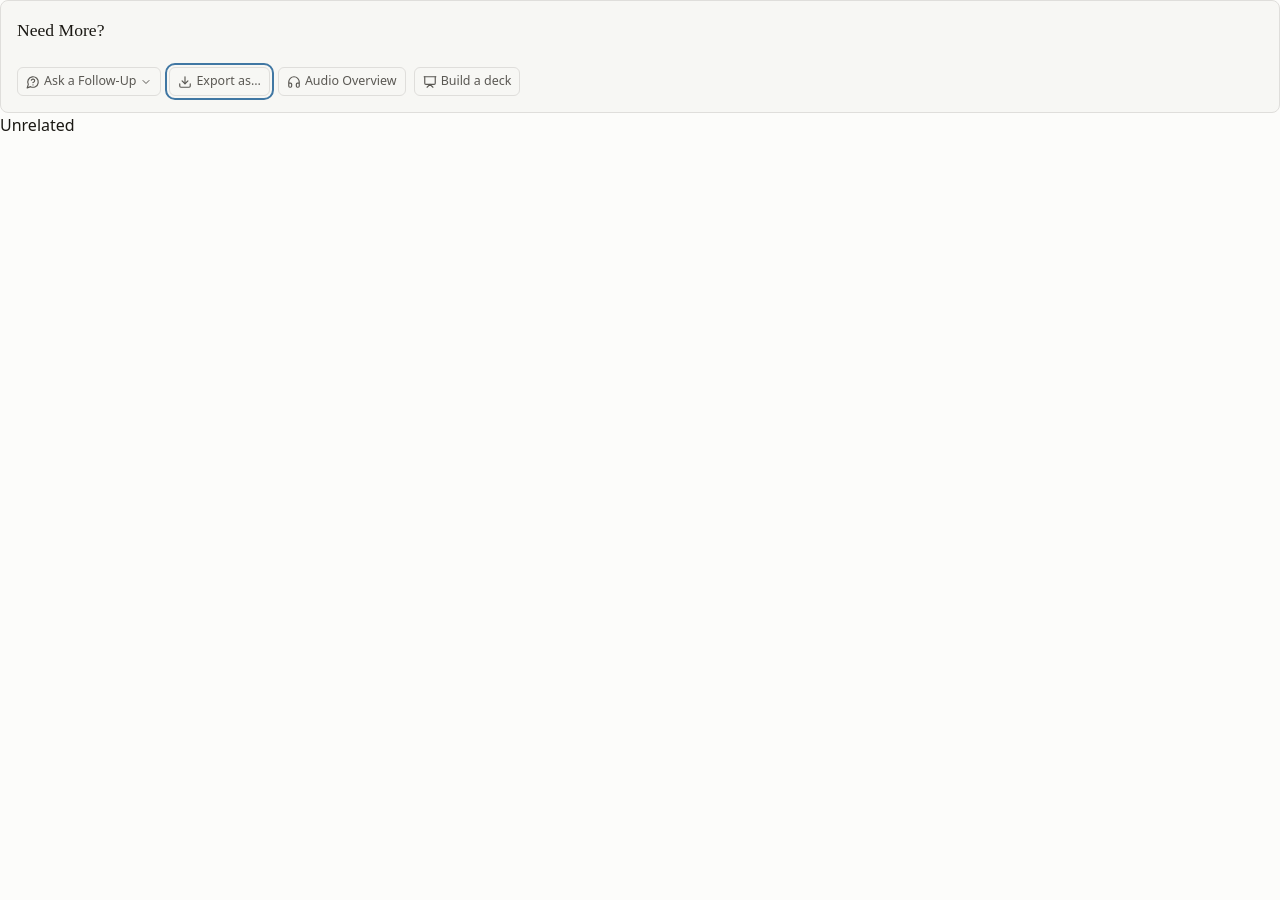
Test case: ExportFocus › include-cancel opens no Export and steals focus to no unrelated element
Press Enter
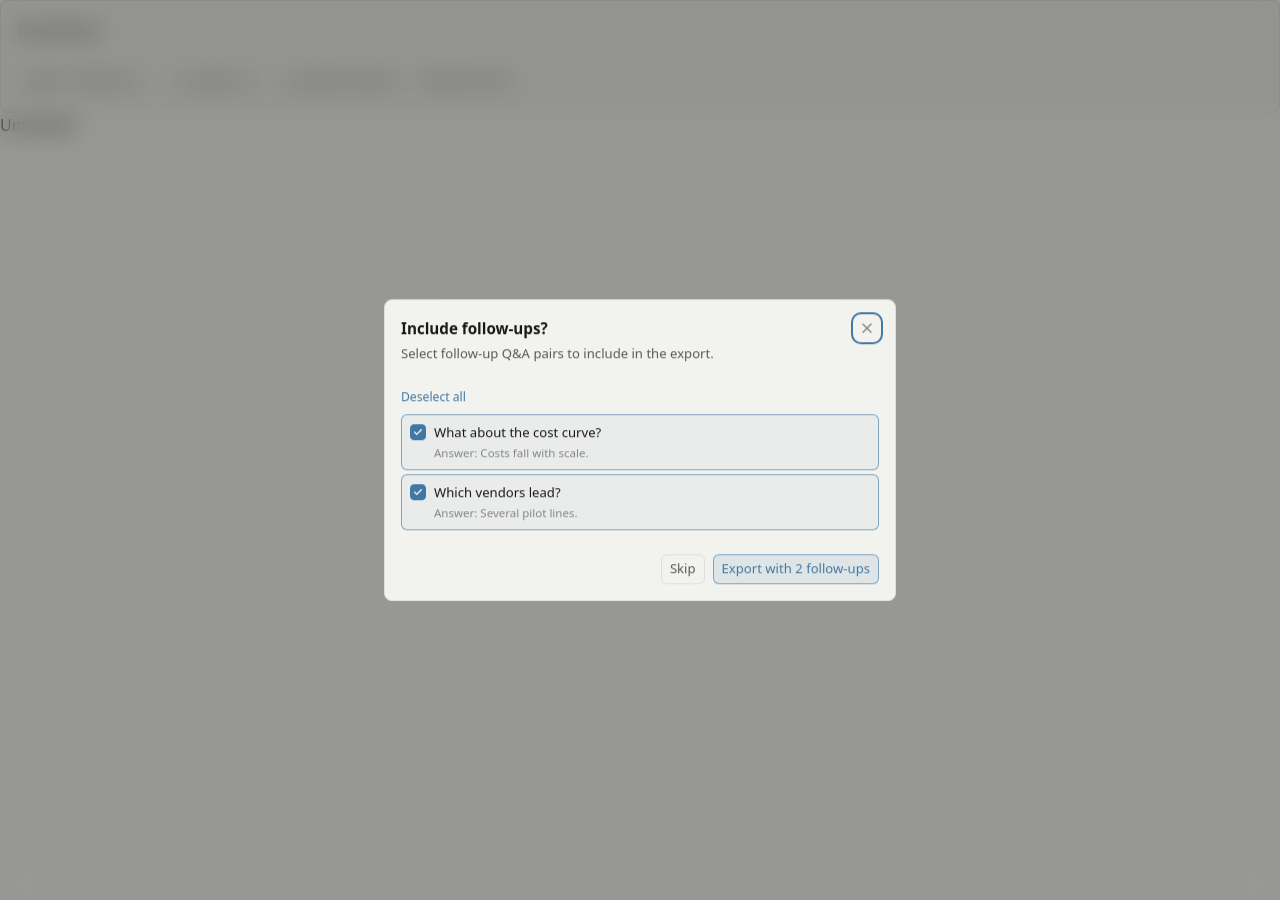
Click the button named "Close dialog" at (867, 328), box [855, 316, 879, 340]
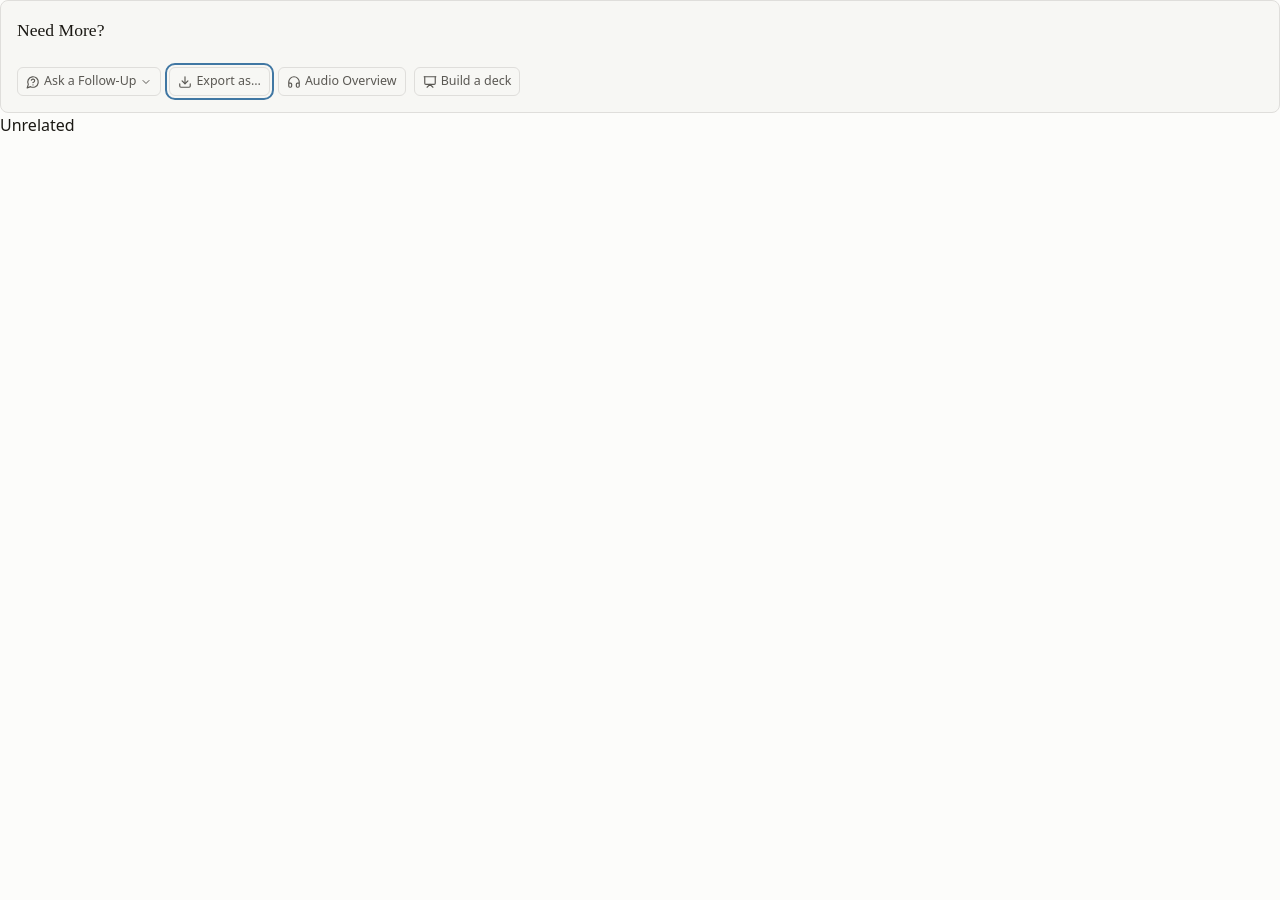
Expected: the heading "Include follow-ups?" is gone
